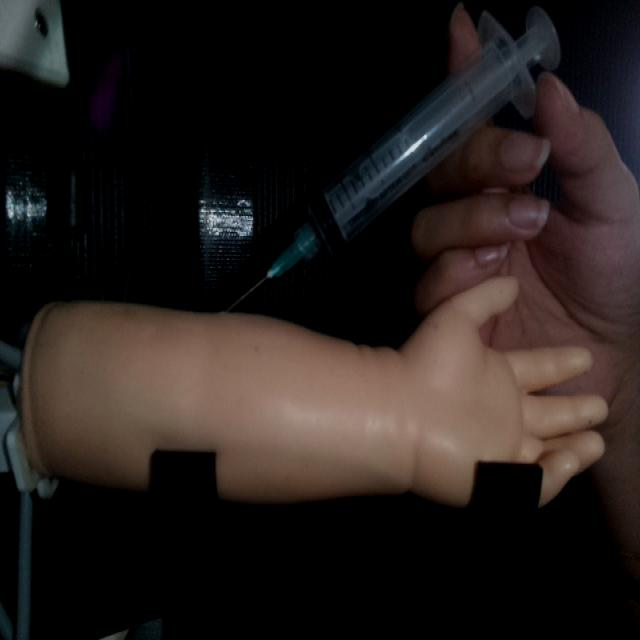Above 30 degrees: (220, 3, 562, 313)
